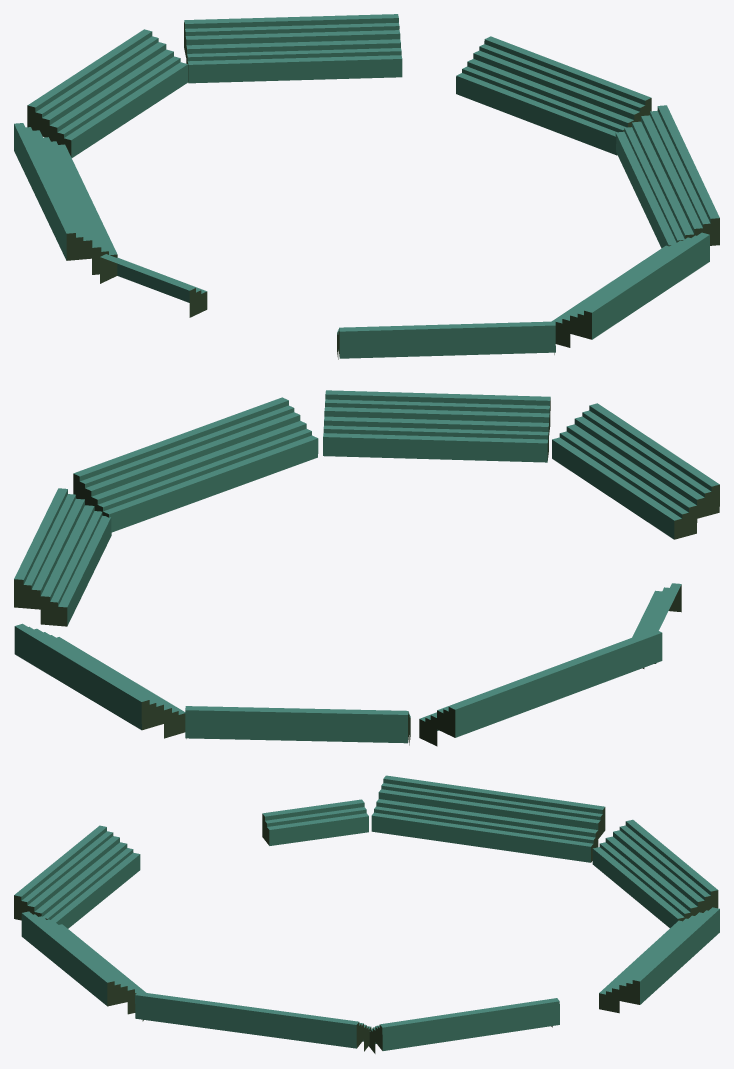
File: Stadium_Seats.fbx
The picture shows the model from 3 angles, top to bottom: view 1: azimuth 30°, elevation 25°; view 2: azimuth 150°, elevation 25°; view 3: azimuth 270°, elevation 25°; orthographic projection. The views are drawn at different scales.
Parts seen in each view (by area): view 1: polySurface36; view 2: polySurface36; view 3: polySurface36.
Boxes of the visible parts, x1,y1,x2,y2 form: polySurface36: (14, 14, 719, 359); polySurface36: (14, 390, 719, 746); polySurface36: (14, 775, 719, 1053).
Bounding box in the file's own units: 1577 × 119 × 1896.
